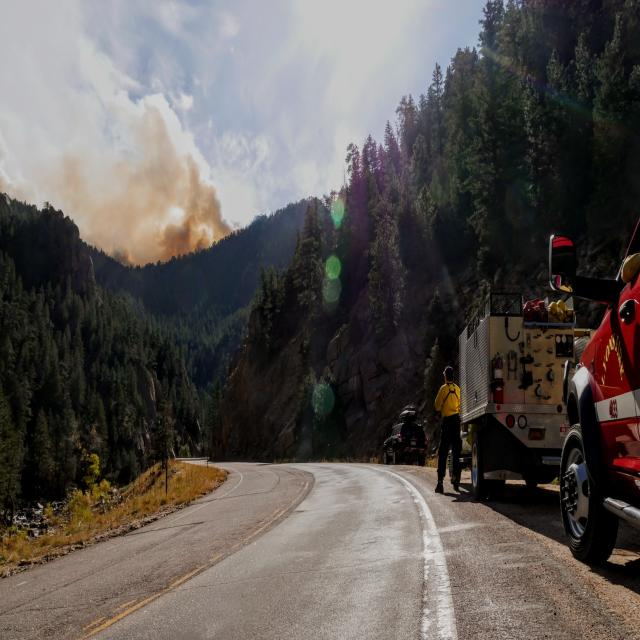smoke: (63, 71, 243, 260)
